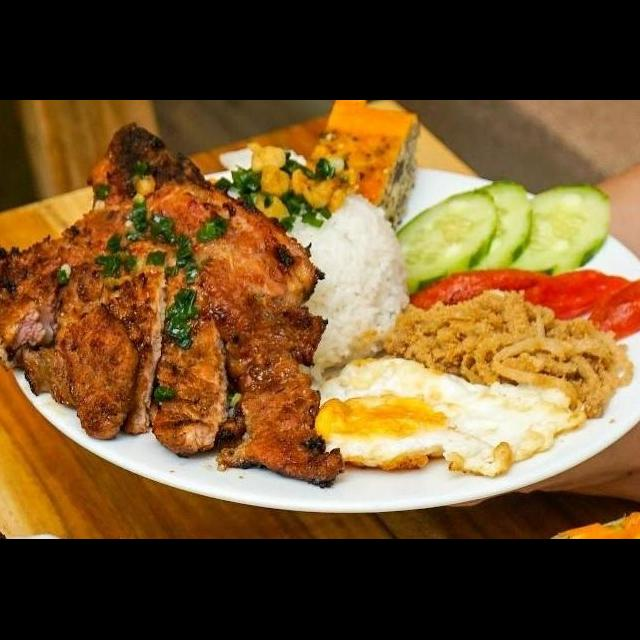bi: (378, 286, 636, 424)
com: (281, 174, 415, 386)
suon: (0, 118, 347, 490)
trung: (309, 356, 590, 480), (304, 102, 422, 236)
